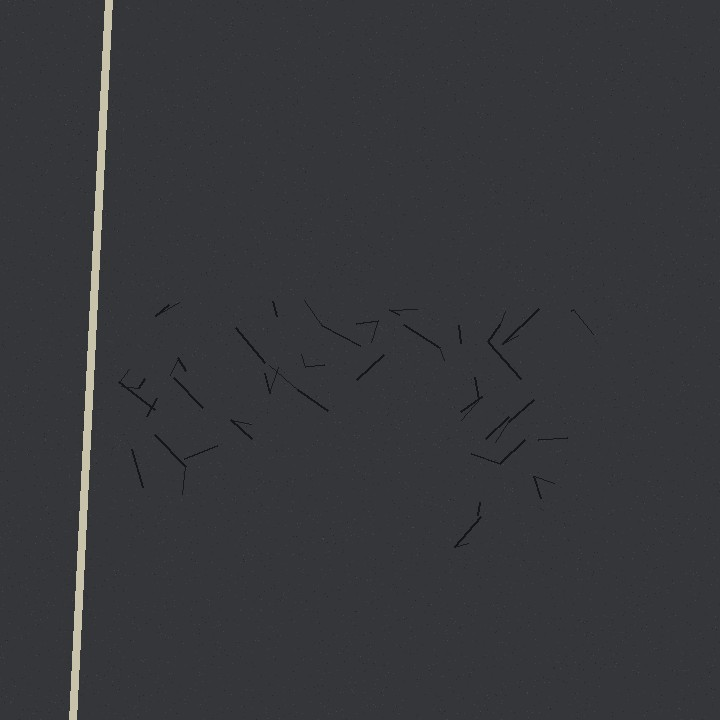D20: (120, 300, 580, 520)
